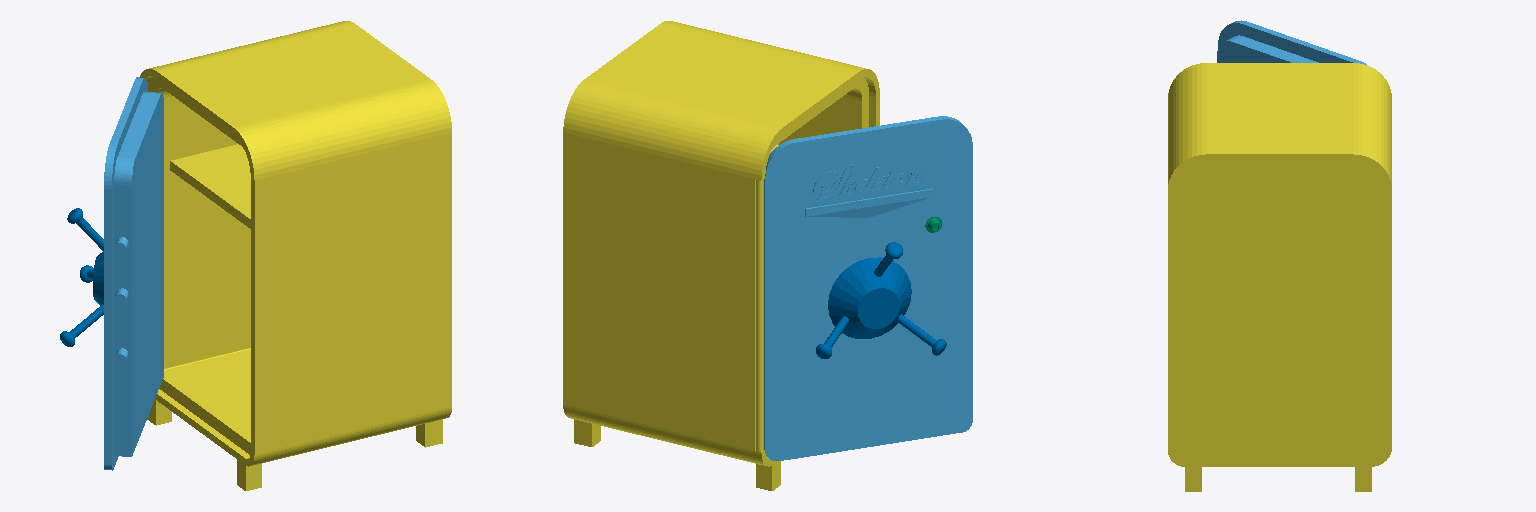
robot.urdf — partnet_96c6742a47bd5e451021cd55d164c0ed:
<?xml version="1.0" ?>
<robot name="partnet_96c6742a47bd5e451021cd55d164c0ed">
	<link name="base"/>
	<link name="link_0">
		<visual name="door-1">
			<origin xyz="0.36159165317299186 -0.6568700000000003 -0.3084953358260058"/>
			<geometry>
				<mesh filename="textured_objs/original-15.obj"/>
			</geometry>
		</visual>
		<visual name="door-1">
			<origin xyz="0.36159165317299186 -0.6568700000000003 -0.3084953358260058"/>
			<geometry>
				<mesh filename="textured_objs/original-4.obj"/>
			</geometry>
		</visual>
		<visual name="door-1">
			<origin xyz="0.36159165317299186 -0.6568700000000003 -0.3084953358260058"/>
			<geometry>
				<mesh filename="textured_objs/original-2.obj"/>
			</geometry>
		</visual>
		<visual name="door-1">
			<origin xyz="0.36159165317299186 -0.6568700000000003 -0.3084953358260058"/>
			<geometry>
				<mesh filename="textured_objs/original-24.obj"/>
			</geometry>
		</visual>
		<visual name="door-1">
			<origin xyz="0.36159165317299186 -0.6568700000000003 -0.3084953358260058"/>
			<geometry>
				<mesh filename="textured_objs/original-3.obj"/>
			</geometry>
		</visual>
		<visual name="door-1">
			<origin xyz="0.36159165317299186 -0.6568700000000003 -0.3084953358260058"/>
			<geometry>
				<mesh filename="textured_objs/original-12.obj"/>
			</geometry>
		</visual>
		<visual name="door-1">
			<origin xyz="0.36159165317299186 -0.6568700000000003 -0.3084953358260058"/>
			<geometry>
				<mesh filename="textured_objs/original-27.obj"/>
			</geometry>
		</visual>
		<visual name="door-1">
			<origin xyz="0.36159165317299186 -0.6568700000000003 -0.3084953358260058"/>
			<geometry>
				<mesh filename="textured_objs/original-26.obj"/>
			</geometry>
		</visual>
		<visual name="door-1">
			<origin xyz="0.36159165317299186 -0.6568700000000003 -0.3084953358260058"/>
			<geometry>
				<mesh filename="textured_objs/original-25.obj"/>
			</geometry>
		</visual>
		<collision>
			<origin xyz="0.36159165317299186 -0.6568700000000003 -0.3084953358260058"/>
			<geometry>
				<mesh filename="textured_objs/original-15.obj"/>
			</geometry>
		</collision>
		<collision>
			<origin xyz="0.36159165317299186 -0.6568700000000003 -0.3084953358260058"/>
			<geometry>
				<mesh filename="textured_objs/original-4.obj"/>
			</geometry>
		</collision>
		<collision>
			<origin xyz="0.36159165317299186 -0.6568700000000003 -0.3084953358260058"/>
			<geometry>
				<mesh filename="textured_objs/original-2.obj"/>
			</geometry>
		</collision>
		<collision>
			<origin xyz="0.36159165317299186 -0.6568700000000003 -0.3084953358260058"/>
			<geometry>
				<mesh filename="textured_objs/original-24.obj"/>
			</geometry>
		</collision>
		<collision>
			<origin xyz="0.36159165317299186 -0.6568700000000003 -0.3084953358260058"/>
			<geometry>
				<mesh filename="textured_objs/original-3.obj"/>
			</geometry>
		</collision>
		<collision>
			<origin xyz="0.36159165317299186 -0.6568700000000003 -0.3084953358260058"/>
			<geometry>
				<mesh filename="textured_objs/original-12.obj"/>
			</geometry>
		</collision>
		<collision>
			<origin xyz="0.36159165317299186 -0.6568700000000003 -0.3084953358260058"/>
			<geometry>
				<mesh filename="textured_objs/original-27.obj"/>
			</geometry>
		</collision>
		<collision>
			<origin xyz="0.36159165317299186 -0.6568700000000003 -0.3084953358260058"/>
			<geometry>
				<mesh filename="textured_objs/original-26.obj"/>
			</geometry>
		</collision>
		<collision>
			<origin xyz="0.36159165317299186 -0.6568700000000003 -0.3084953358260058"/>
			<geometry>
				<mesh filename="textured_objs/original-25.obj"/>
			</geometry>
		</collision>
	</link>
	<joint name="joint_0" type="revolute">
		<origin xyz="-0.36159165317299186 0.6568700000000003 0.3084953358260058"/>
		<axis xyz="0 -1 0"/>
		<child link="link_0"/>
		<parent link="link_2"/>
		<limit lower="-0.653451271946677" upper="2.0671679660620836"/>
	</joint>
	<link name="link_1">
		<visual name="switch-5">
			<origin xyz="-0.42107775936195097 -0.24051903976937045 -0.3471285005138152"/>
			<geometry>
				<mesh filename="textured_objs/original-28.obj"/>
			</geometry>
		</visual>
		<visual name="switch-5">
			<origin xyz="-0.42107775936195097 -0.24051903976937045 -0.3471285005138152"/>
			<geometry>
				<mesh filename="textured_objs/original-17.obj"/>
			</geometry>
		</visual>
		<visual name="switch-5">
			<origin xyz="-0.42107775936195097 -0.24051903976937045 -0.3471285005138152"/>
			<geometry>
				<mesh filename="textured_objs/original-14.obj"/>
			</geometry>
		</visual>
		<collision>
			<origin xyz="-0.42107775936195097 -0.24051903976937045 -0.3471285005138152"/>
			<geometry>
				<mesh filename="textured_objs/original-28.obj"/>
			</geometry>
		</collision>
		<collision>
			<origin xyz="-0.42107775936195097 -0.24051903976937045 -0.3471285005138152"/>
			<geometry>
				<mesh filename="textured_objs/original-17.obj"/>
			</geometry>
		</collision>
		<collision>
			<origin xyz="-0.42107775936195097 -0.24051903976937045 -0.3471285005138152"/>
			<geometry>
				<mesh filename="textured_objs/original-14.obj"/>
			</geometry>
		</collision>
	</link>
	<joint name="joint_1" type="continuous">
		<origin xyz="0.7826694125349428 -0.41635096023062984 0.03863316468780942"/>
		<axis xyz="-0.6360635966136855 -0.00010333123638589688 0.7716366310547463"/>
		<child link="link_1"/>
		<parent link="link_0"/>
	</joint>
	<link name="link_2">
		<visual name="base_body-8">
			<origin xyz="0 0 0"/>
			<geometry>
				<mesh filename="textured_objs/original-8.obj"/>
			</geometry>
		</visual>
		<visual name="base_body-8">
			<origin xyz="0 0 0"/>
			<geometry>
				<mesh filename="textured_objs/original-9.obj"/>
			</geometry>
		</visual>
		<visual name="base_body-8">
			<origin xyz="0 0 0"/>
			<geometry>
				<mesh filename="textured_objs/original-11.obj"/>
			</geometry>
		</visual>
		<visual name="base_body-8">
			<origin xyz="0 0 0"/>
			<geometry>
				<mesh filename="textured_objs/original-20.obj"/>
			</geometry>
		</visual>
		<visual name="base_body-8">
			<origin xyz="0 0 0"/>
			<geometry>
				<mesh filename="textured_objs/original-10.obj"/>
			</geometry>
		</visual>
		<collision>
			<origin xyz="0 0 0"/>
			<geometry>
				<mesh filename="textured_objs/original-8.obj"/>
			</geometry>
		</collision>
		<collision>
			<origin xyz="0 0 0"/>
			<geometry>
				<mesh filename="textured_objs/original-9.obj"/>
			</geometry>
		</collision>
		<collision>
			<origin xyz="0 0 0"/>
			<geometry>
				<mesh filename="textured_objs/original-11.obj"/>
			</geometry>
		</collision>
		<collision>
			<origin xyz="0 0 0"/>
			<geometry>
				<mesh filename="textured_objs/original-20.obj"/>
			</geometry>
		</collision>
		<collision>
			<origin xyz="0 0 0"/>
			<geometry>
				<mesh filename="textured_objs/original-10.obj"/>
			</geometry>
		</collision>
	</link>
	<joint name="joint_2" type="fixed">
		<origin rpy="1.570796326794897 0 -1.570796326794897" xyz="0 0 0"/>
		<child link="link_2"/>
		<parent link="base"/>
	</joint>
	<link name="link_3">
		<visual name="switch-2">
			<origin xyz="0.13639947629698213 0.016313575992393144 -0.6316314453069425"/>
			<geometry>
				<mesh filename="textured_objs/original-13.obj"/>
			</geometry>
		</visual>
		<visual name="switch-2">
			<origin xyz="0.13639947629698213 0.016313575992393144 -0.6316314453069425"/>
			<geometry>
				<mesh filename="textured_objs/original-29.obj"/>
			</geometry>
		</visual>
		<visual name="switch-2">
			<origin xyz="0.13639947629698213 0.016313575992393144 -0.6316314453069425"/>
			<geometry>
				<mesh filename="textured_objs/original-7.obj"/>
			</geometry>
		</visual>
		<visual name="outlier-6">
			<origin xyz="0.13639947629698213 0.016313575992393144 -0.6316314453069425"/>
			<geometry>
				<mesh filename="textured_objs/original-18.obj"/>
			</geometry>
		</visual>
		<visual name="outlier-6">
			<origin xyz="0.13639947629698213 0.016313575992393144 -0.6316314453069425"/>
			<geometry>
				<mesh filename="textured_objs/original-23.obj"/>
			</geometry>
		</visual>
		<visual name="outlier-6">
			<origin xyz="0.13639947629698213 0.016313575992393144 -0.6316314453069425"/>
			<geometry>
				<mesh filename="textured_objs/original-21.obj"/>
			</geometry>
		</visual>
		<visual name="outlier-6">
			<origin xyz="0.13639947629698213 0.016313575992393144 -0.6316314453069425"/>
			<geometry>
				<mesh filename="textured_objs/original-16.obj"/>
			</geometry>
		</visual>
		<visual name="outlier-6">
			<origin xyz="0.13639947629698213 0.016313575992393144 -0.6316314453069425"/>
			<geometry>
				<mesh filename="textured_objs/original-22.obj"/>
			</geometry>
		</visual>
		<visual name="outlier-7">
			<origin xyz="0.13639947629698213 0.016313575992393144 -0.6316314453069425"/>
			<geometry>
				<mesh filename="textured_objs/original-19.obj"/>
			</geometry>
		</visual>
		<collision>
			<origin xyz="0.13639947629698213 0.016313575992393144 -0.6316314453069425"/>
			<geometry>
				<mesh filename="textured_objs/original-13.obj"/>
			</geometry>
		</collision>
		<collision>
			<origin xyz="0.13639947629698213 0.016313575992393144 -0.6316314453069425"/>
			<geometry>
				<mesh filename="textured_objs/original-29.obj"/>
			</geometry>
		</collision>
		<collision>
			<origin xyz="0.13639947629698213 0.016313575992393144 -0.6316314453069425"/>
			<geometry>
				<mesh filename="textured_objs/original-7.obj"/>
			</geometry>
		</collision>
		<collision>
			<origin xyz="0.13639947629698213 0.016313575992393144 -0.6316314453069425"/>
			<geometry>
				<mesh filename="textured_objs/original-18.obj"/>
			</geometry>
		</collision>
		<collision>
			<origin xyz="0.13639947629698213 0.016313575992393144 -0.6316314453069425"/>
			<geometry>
				<mesh filename="textured_objs/original-23.obj"/>
			</geometry>
		</collision>
		<collision>
			<origin xyz="0.13639947629698213 0.016313575992393144 -0.6316314453069425"/>
			<geometry>
				<mesh filename="textured_objs/original-21.obj"/>
			</geometry>
		</collision>
		<collision>
			<origin xyz="0.13639947629698213 0.016313575992393144 -0.6316314453069425"/>
			<geometry>
				<mesh filename="textured_objs/original-16.obj"/>
			</geometry>
		</collision>
		<collision>
			<origin xyz="0.13639947629698213 0.016313575992393144 -0.6316314453069425"/>
			<geometry>
				<mesh filename="textured_objs/original-22.obj"/>
			</geometry>
		</collision>
		<collision>
			<origin xyz="0.13639947629698213 0.016313575992393144 -0.6316314453069425"/>
			<geometry>
				<mesh filename="textured_objs/original-19.obj"/>
			</geometry>
		</collision>
	</link>
	<joint name="joint_3" type="continuous">
		<origin xyz="0.22519217687600973 -0.6731835759923934 0.3231361094809367"/>
		<axis xyz="-0.6360772867448893 -9.110514783407116e-06 0.7716253528781041"/>
		<child link="link_3"/>
		<parent link="link_0"/>
	</joint>
</robot>

--- Facts derived from the render (not from the file) ---
Views: 3 orthographic renders of the robot side by side, from view 1: azimuth 30°, elevation 25°; view 2: azimuth 150°, elevation 25°; view 3: azimuth 270°, elevation 25°.
Model partnet_96c6742a47bd5e451021cd55d164c0ed with 5 links and 4 joints (1 revolute, 2 continuous, 1 fixed), rooted at base, posed all joints at 0.
Links seen in each view (by area): view 1: link_2, link_0, link_3; view 2: link_2, link_0, link_3; view 3: link_2, link_0.
Boxes of the visible links, x1,y1,x2,y2 form: link_2: (140,21,451,490); link_0: (104,77,163,470); link_3: (60,208,103,346); link_2: (563,21,879,490); link_0: (764,116,972,460); link_3: (816,242,946,358); link_2: (1168,63,1391,491); link_0: (1217,20,1366,64).
Bounding box of the posed robot: 1.37 × 0.8606 × 1.43 m (x, y, z).
26 mesh visuals loaded from 26 distinct referenced files (26 OBJ).